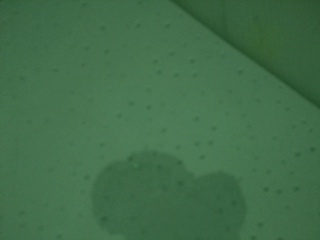Water_detected: (106, 156, 206, 240)
